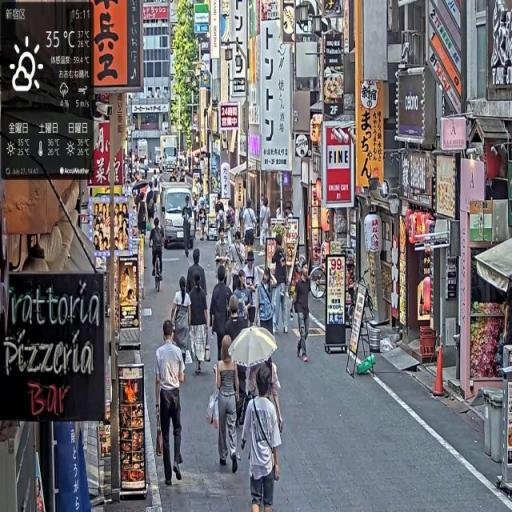person: (241, 362, 284, 512), (156, 320, 188, 488), (211, 333, 241, 474), (209, 266, 235, 376), (188, 269, 210, 375), (291, 261, 313, 363), (171, 276, 193, 371), (272, 246, 292, 337), (243, 251, 262, 331), (257, 265, 277, 335), (150, 214, 167, 291), (232, 231, 249, 297), (243, 199, 258, 259), (183, 197, 196, 260)
